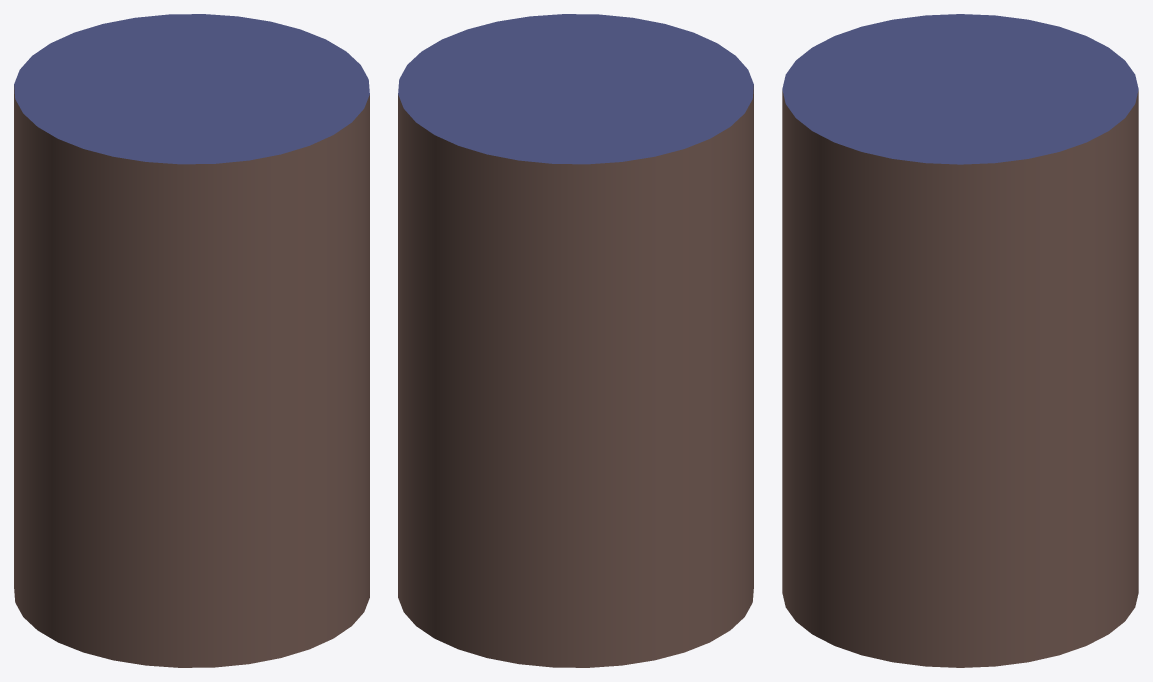
File: Cylinder_teleport.fbx
3 renders of one model, left to right at view 1: azimuth 30°, elevation 25°; view 2: azimuth 150°, elevation 25°; view 3: azimuth 270°, elevation 25°, orthographic.
Parts seen in each view (by area): view 1: Cylinder_teleport; view 2: Cylinder_teleport; view 3: Cylinder_teleport.
Boxes of the visible parts, x1,y1,x2,y2 form: Cylinder_teleport: (14,14,369,667); Cylinder_teleport: (398,14,753,667); Cylinder_teleport: (782,14,1138,667).
Bounding box in the file's own units: 29.05 × 45.27 × 29.05.
